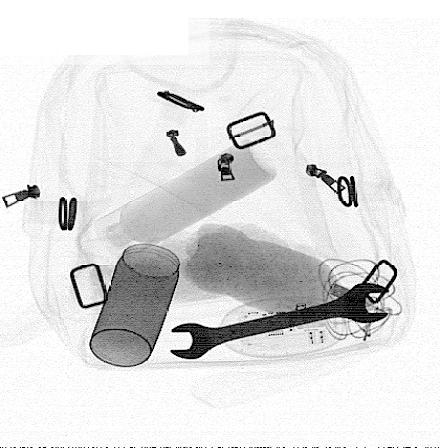Wrench: (168, 282, 393, 360)
